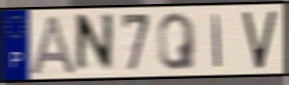7: (120, 12, 152, 74)
A: (27, 13, 78, 76)
I: (212, 12, 222, 69)
N: (73, 11, 115, 76)
Q: (156, 11, 198, 73)
V: (241, 8, 279, 71)
